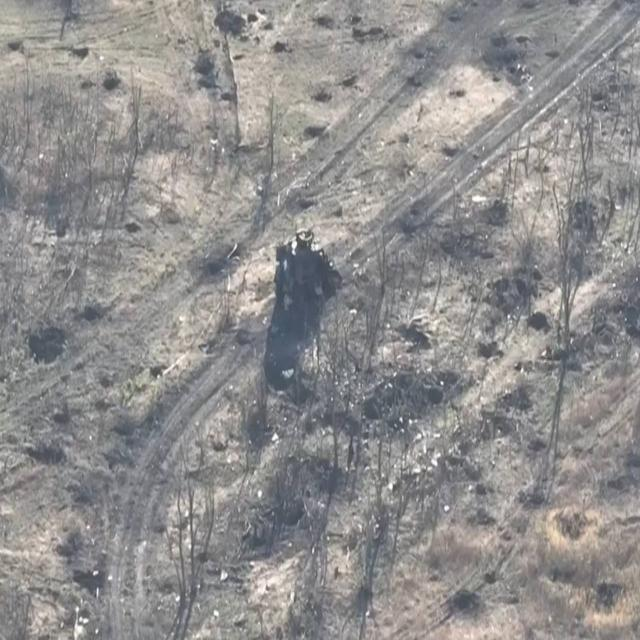Vehicle: (274, 226, 336, 310)
